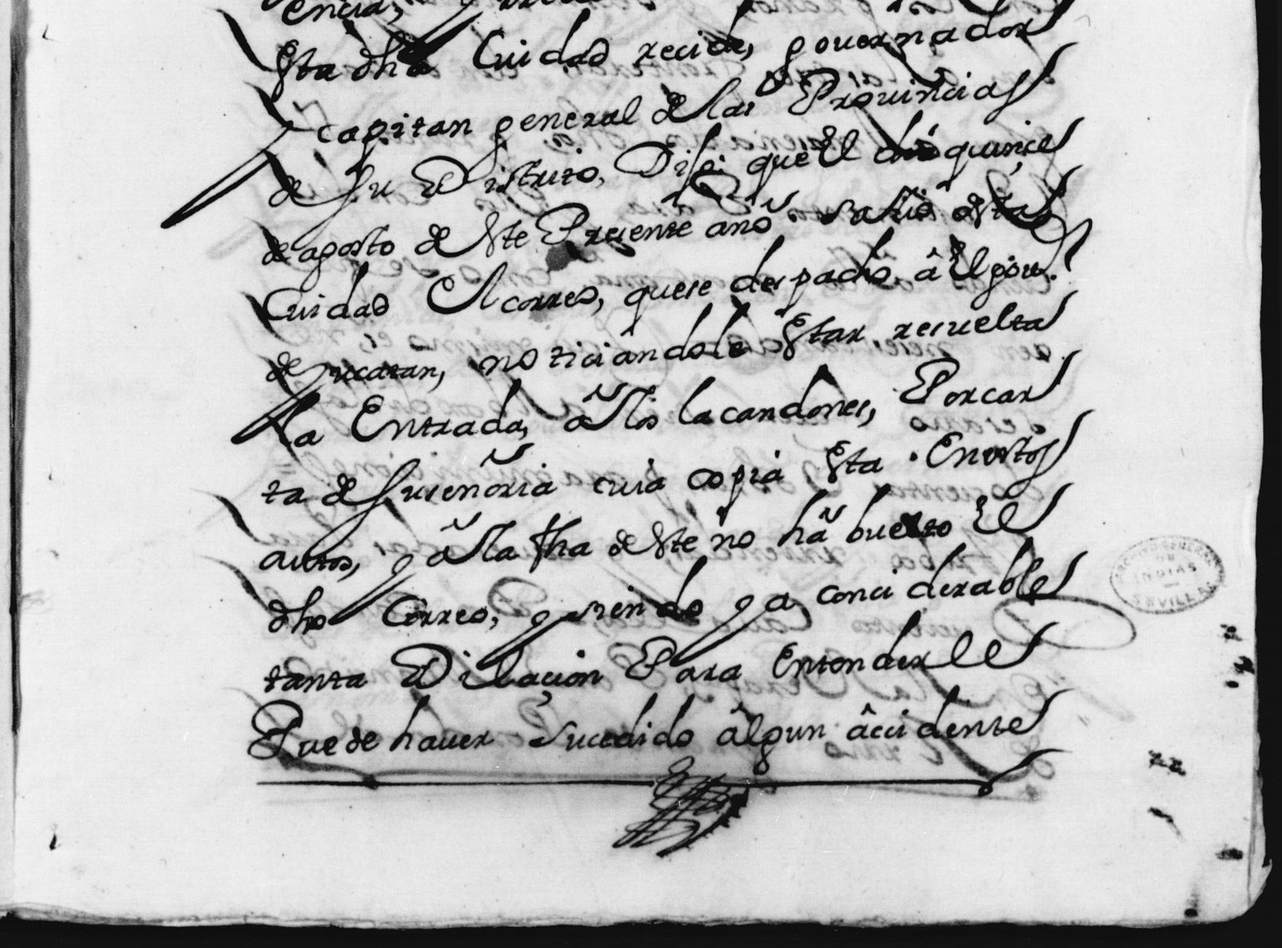lacandon: (678, 363, 871, 425)
